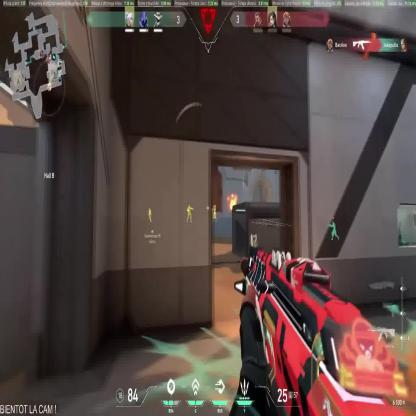enemy: (186, 204, 193, 222), (211, 202, 216, 222), (148, 207, 152, 222)
enemy_head: (213, 203, 216, 209), (148, 208, 150, 210), (188, 204, 190, 206)
